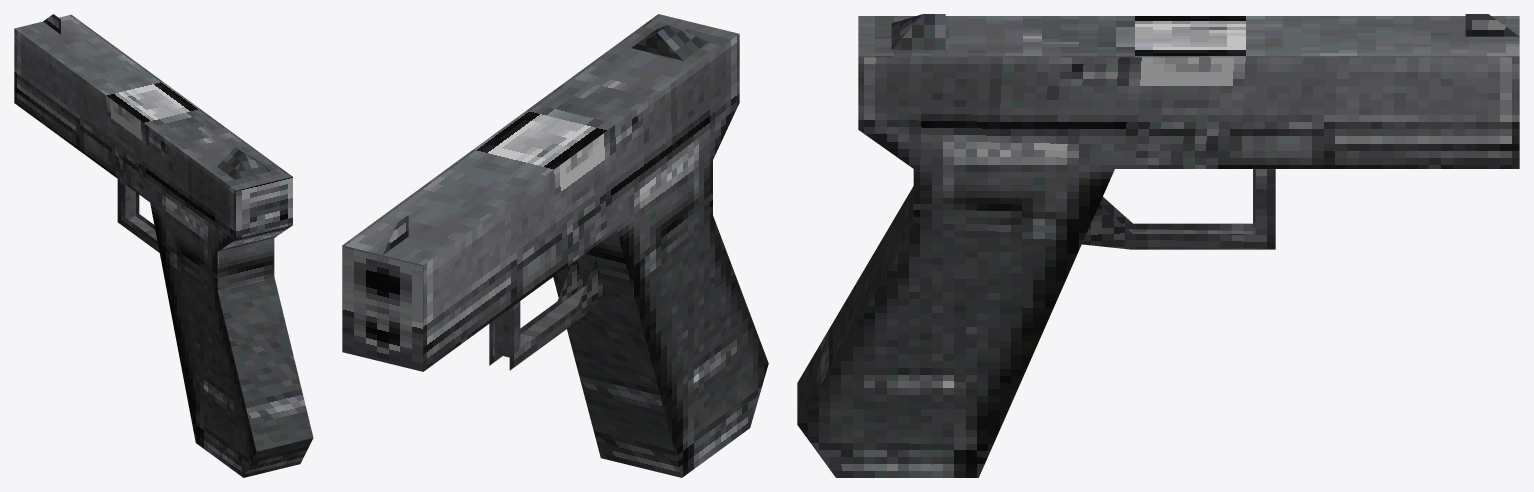
The model's file is recovered_gun_glock18.glb.
3 views of the same model, side by side, from view 1: azimuth 30°, elevation 25°; view 2: azimuth 150°, elevation 25°; view 3: azimuth 270°, elevation 25° (orthographic). The views are drawn at different scales.
Parts seen in each view (by area): view 1: Gun_bfcc6078b9ec; view 2: Gun_bfcc6078b9ec; view 3: Gun_bfcc6078b9ec.
Boxes of the visible parts, left/top/right/bottom form: Gun_bfcc6078b9ec: left=14, top=14, right=313, bottom=477; Gun_bfcc6078b9ec: left=342, top=14, right=768, bottom=477; Gun_bfcc6078b9ec: left=797, top=14, right=1519, bottom=477.
Bounding box in the file's own units: 0.0342 × 0.1706 × 0.252.
Materials: 1 (1 with a texture image).
